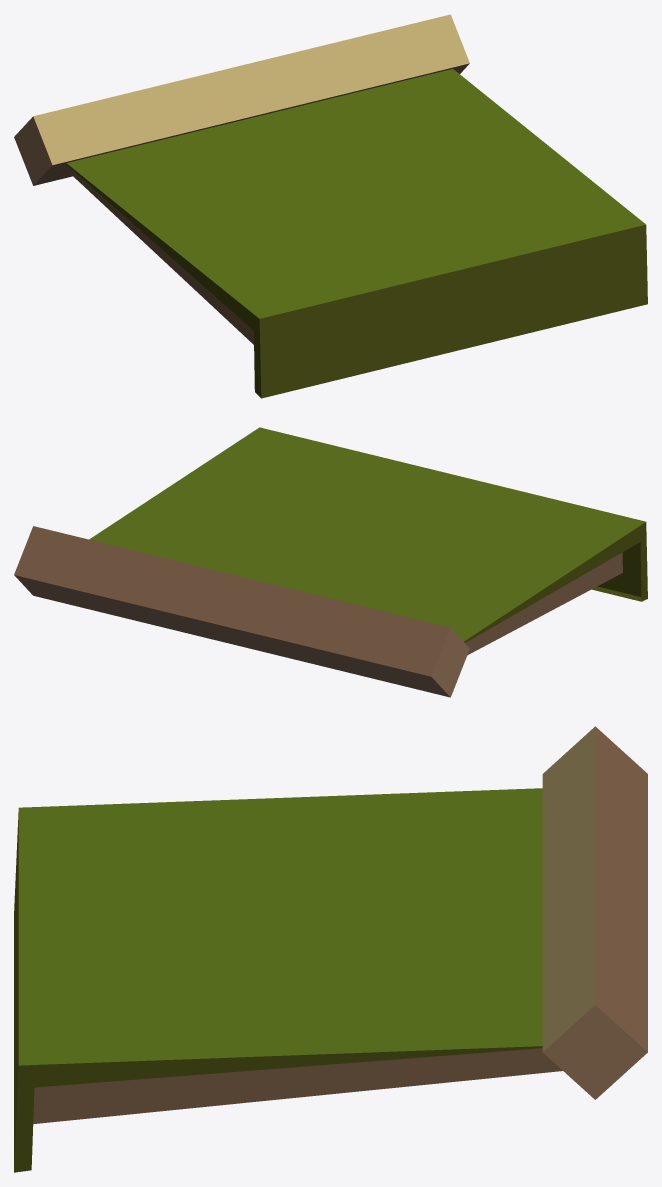
The model's file is TB_D_Bd_Canopy_Sol_B.FBX.
3 renders of one model, top to bottom at view 1: azimuth 30°, elevation 25°; view 2: azimuth 150°, elevation 25°; view 3: azimuth 270°, elevation 25°, orthographic. The views are drawn at different scales.
Parts seen in each view (by area): view 1: TB_D_Bd_Canopy_Sol_B; view 2: TB_D_Bd_Canopy_Sol_B; view 3: TB_D_Bd_Canopy_Sol_B.
Part boxes in pixels (left/top/right/bottom): TB_D_Bd_Canopy_Sol_B: left=14, top=14, right=647, bottom=398; TB_D_Bd_Canopy_Sol_B: left=14, top=427, right=647, bottom=697; TB_D_Bd_Canopy_Sol_B: left=14, top=726, right=647, bottom=1172.
Size of the model in its own units: 1.88 by 0.5606 by 1.81.
